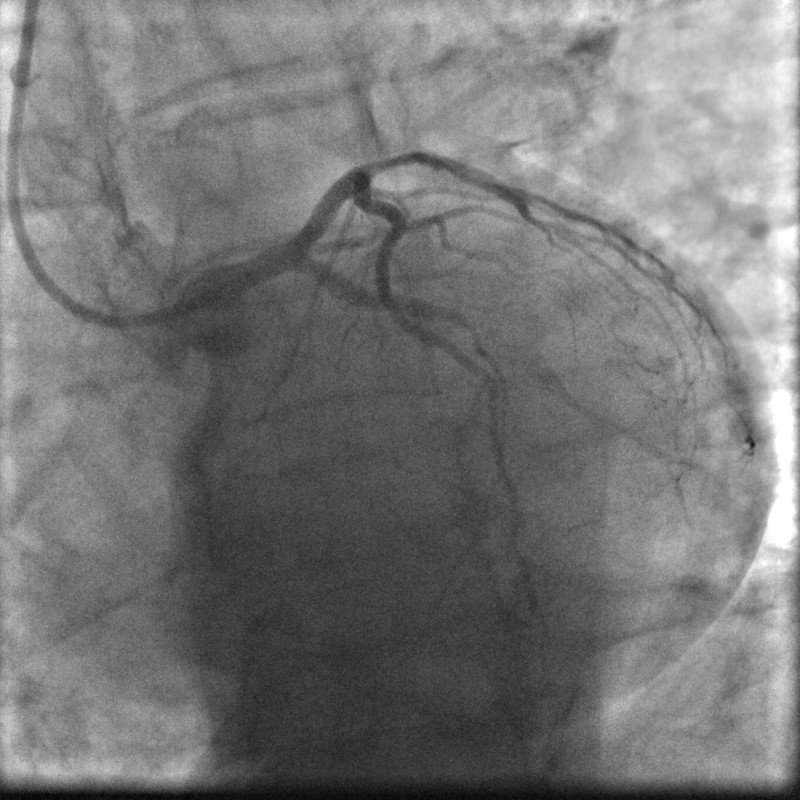Stenosis: (366, 134, 424, 178)
